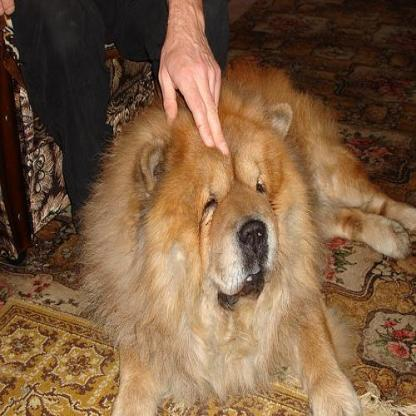chow: (74, 55, 414, 414)
